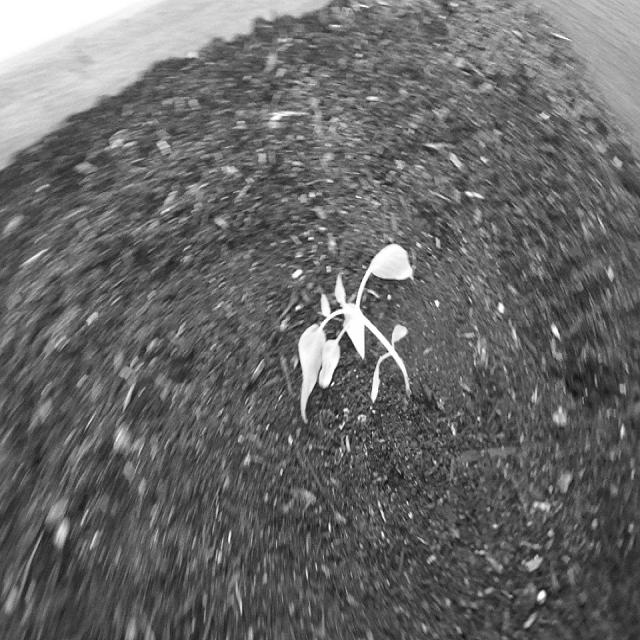Healthy: (287, 223, 446, 444)
